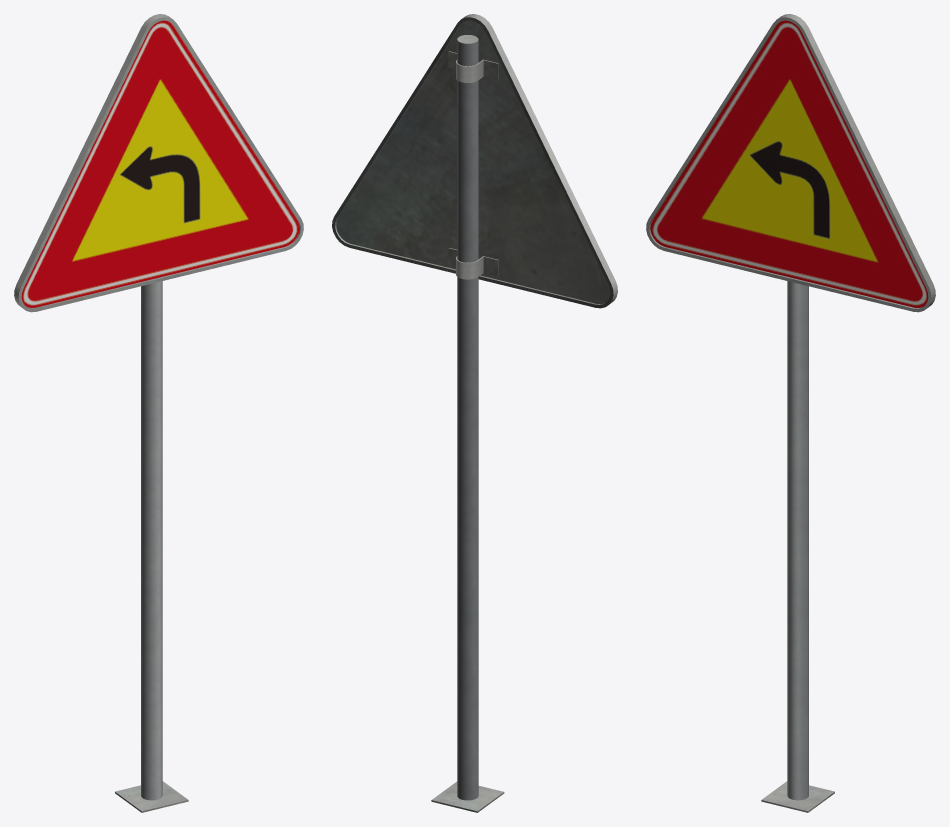
3 renders of one model, left to right at view 1: azimuth 30°, elevation 25°; view 2: azimuth 150°, elevation 25°; view 3: azimuth 330°, elevation 25°, orthographic.
Parts seen in each view (by area): view 1: MainBuilding; view 2: MainBuilding; view 3: MainBuilding.
Part boxes in pixels (<box>): MainBuilding: <box>14,14,303,812</box>; MainBuilding: <box>332,14,617,812</box>; MainBuilding: <box>646,14,935,812</box>.
Bounding box in the file's own units: 0.9151 × 2.41 × 0.15.
Materials: 1 (1 with a texture image).
